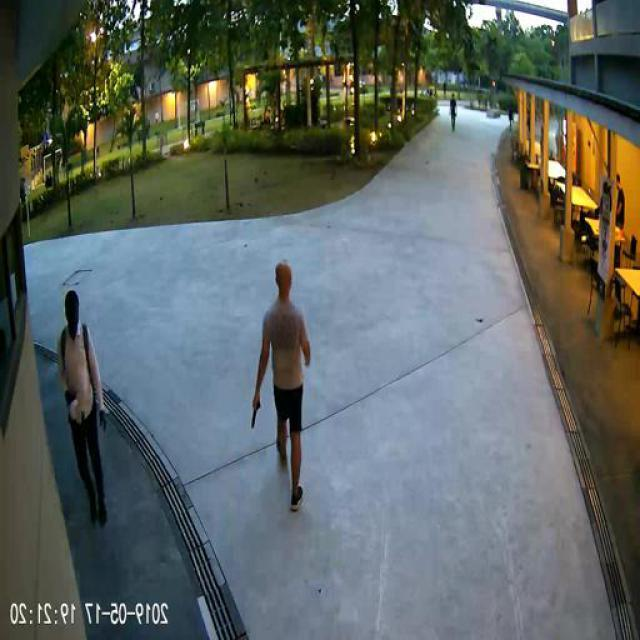Gun: (252, 394, 262, 426)
